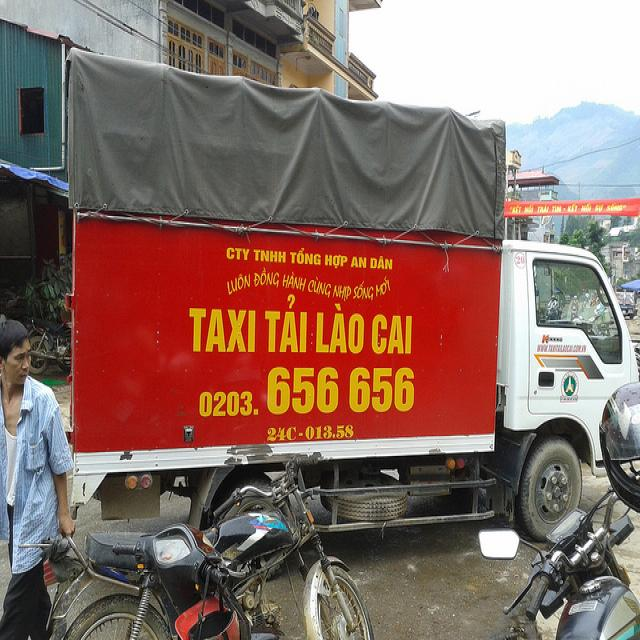motor: (18, 453, 374, 640), (478, 488, 639, 630), (111, 523, 252, 640)
